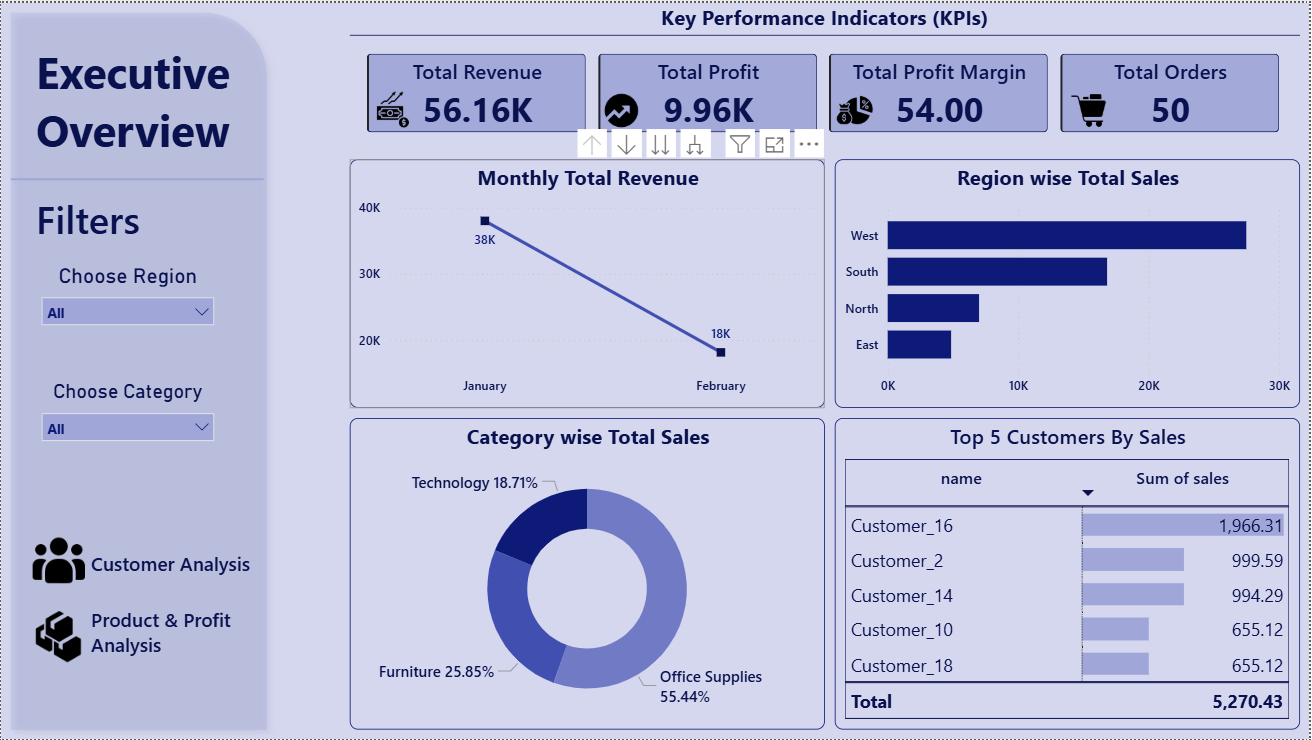

This screenshot's page, from the dashboard's own definition file:
{"tool":"powerbi","page":{"name":"OverView","canvas":[1280,720],"ordinal":0},"visuals":[{"type":"shape","box":[0,0,269,720.2],"z":0},{"type":"cardVisual","title":"Key Performance Indicators (KPIs)","fields":{"Data":["Sum(public cleaned_order_details.sales)","Sum(public cleaned_order_details.profit)","Sum(Profit Margin.profit_margin)","CountNonNull(public cleaned_orders.order_id)"]},"box":[341.2,0,929.4,143.1],"z":1000},{"type":"lineChart","title":"Monthly Total Revenue","fields":{"Category":["public cleaned_orders.order_date.Variation.Date Hierarchy.Month","public cleaned_orders.order_date.Variation.Date Hierarchy.Day"],"Y":["Sum(public cleaned_order_details.sales)"]},"box":[341.2,152.9,464.7,243.3],"z":2000},{"type":"clusteredBarChart","title":"Region wise Total Sales","fields":{"Category":["public cleaned_customers.region"],"Y":["Sum(public cleaned_order_details.sales)"]},"box":[815.6,152.9,454.9,243.3],"z":3000},{"type":"donutChart","title":"Category wise Total Sales","fields":{"Category":["public cleaned_products.category"],"Y":["Sum(public cleaned_order_details.sales)"]},"box":[341.2,406,464.7,304.5],"z":4000},{"type":"tableEx","title":"Top 5 Customers By Sales","fields":{"Values":["public cleaned_customers.name","Sum(public cleaned_order_details.sales)"]},"box":[815.6,406,454.9,304.5],"z":5000},{"type":"textbox","box":[29.3,181,160.2,61.1],"z":6000},{"type":"textbox","box":[29.3,33,227.4,128.4],"z":7000},{"type":"shape","box":[9.8,97.8,247,149.2],"z":8000},{"type":"slicer","title":"Choose Region","fields":{"Values":["public cleaned_customers.region"]},"box":[29.3,254.3,189.5,72.1],"z":9000},{"type":"slicer","title":"Choose Category","fields":{"Values":["public cleaned_products.category"]},"box":[29.3,369.3,189.5,72.1],"z":10000},{"type":"image","box":[358.3,85.6,51.4,39.1],"z":10001},{"type":"image","box":[585.7,85.6,42.8,39.1],"z":10002},{"type":"image","box":[815.6,85.6,39.1,39.1],"z":10003},{"type":"image","box":[1043.1,85.6,41.6,39.1],"z":10004},{"type":"image","box":[29.3,519.7,53.8,51.4],"z":10005},{"type":"image","box":[29.3,590.6,53.8,58.7],"z":10006},{"type":"textbox","box":[83.2,530.7,185.9,40.4],"z":10007},{"type":"textbox","box":[83.2,585.7,173.6,67.3],"z":10008}]}

Visuals, with their boxes in screenshot pixels (x1, y1, x2, y2), scaled from the page's 1280x720 canvas onto the 1312x740 screenshot:
shape: bbox=(0, 0, 276, 739)
"Key Performance Indicators (KPIs)" cardVisual: bbox=(350, 0, 1302, 147)
"Monthly Total Revenue" lineChart: bbox=(350, 157, 826, 407)
"Region wise Total Sales" clusteredBarChart: bbox=(836, 157, 1302, 407)
"Category wise Total Sales" donutChart: bbox=(350, 417, 826, 730)
"Top 5 Customers By Sales" tableEx: bbox=(836, 417, 1302, 730)
textbox: bbox=(30, 186, 194, 249)
textbox: bbox=(30, 34, 263, 166)
shape: bbox=(10, 101, 263, 254)
"Choose Region" slicer: bbox=(30, 261, 224, 335)
"Choose Category" slicer: bbox=(30, 380, 224, 454)
image: bbox=(367, 88, 420, 128)
image: bbox=(600, 88, 644, 128)
image: bbox=(836, 88, 876, 128)
image: bbox=(1069, 88, 1112, 128)
image: bbox=(30, 534, 85, 587)
image: bbox=(30, 607, 85, 667)
textbox: bbox=(85, 545, 276, 587)
textbox: bbox=(85, 602, 263, 671)
